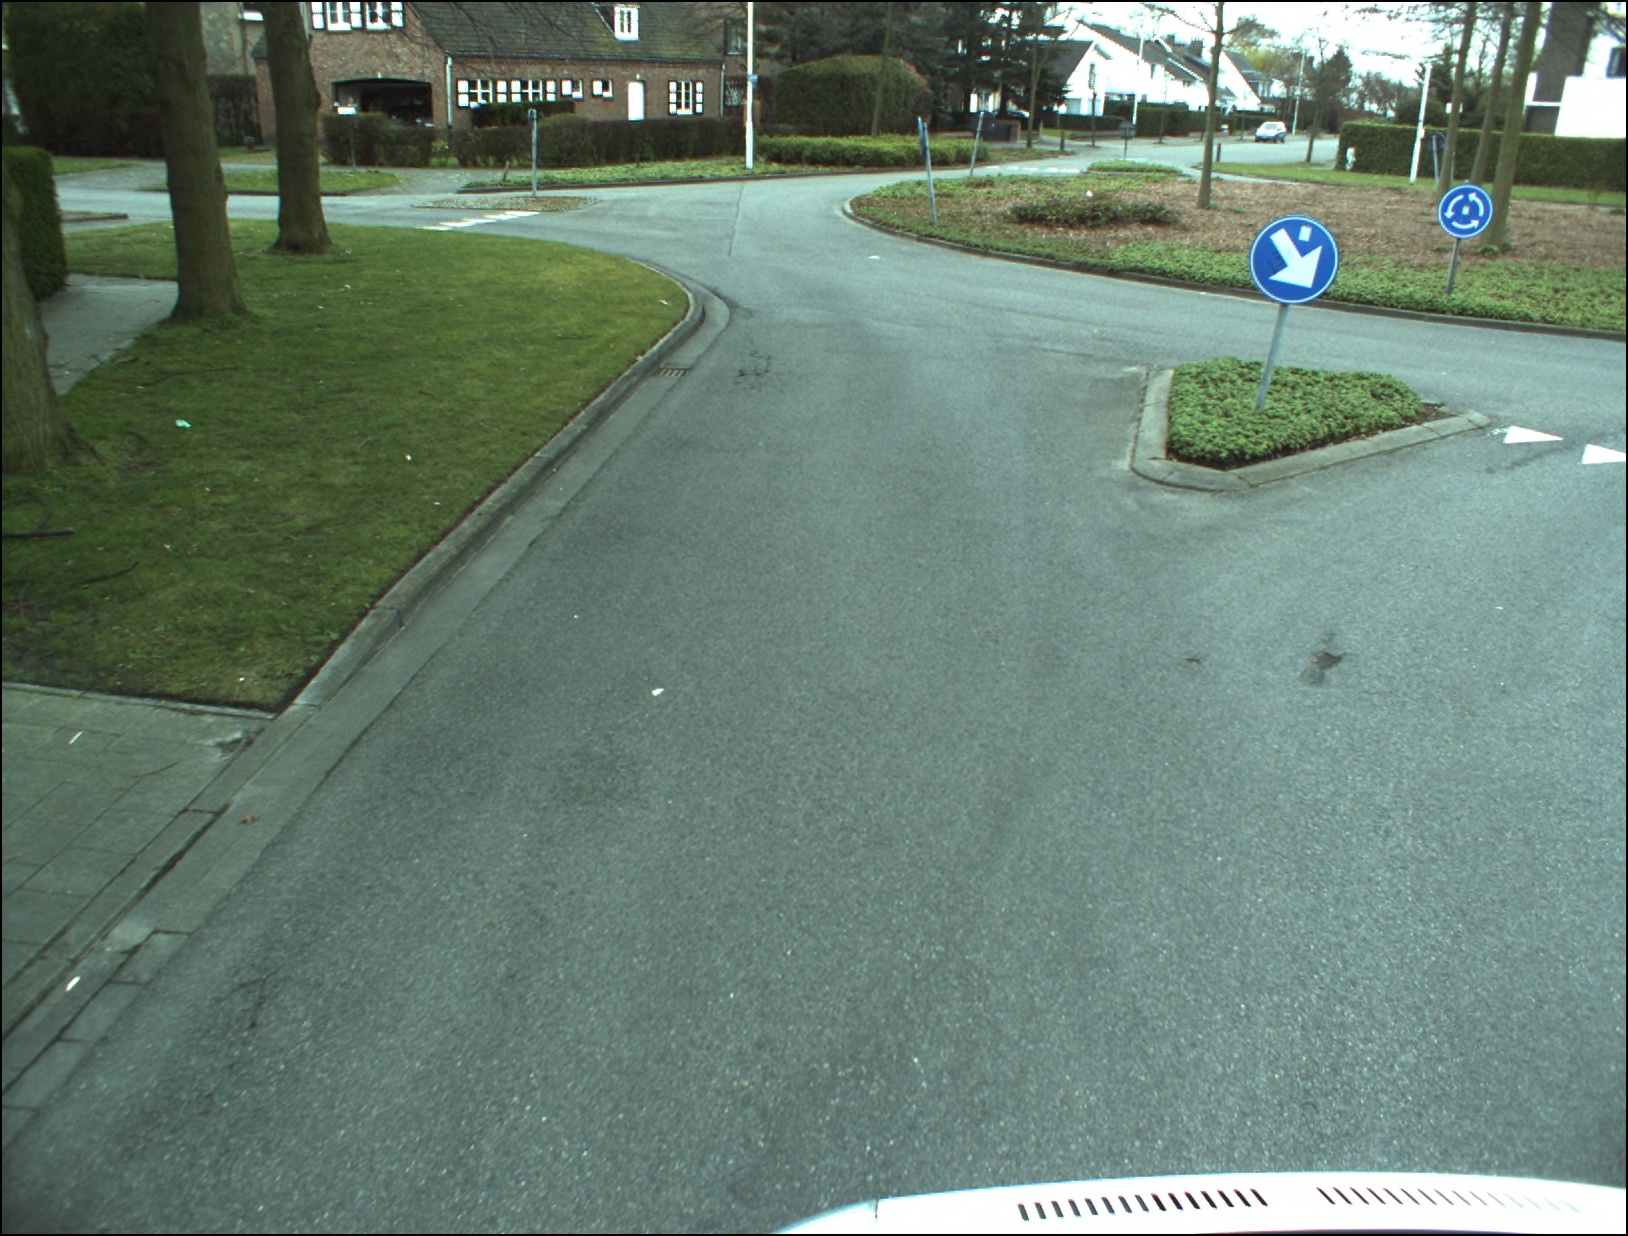passright: (1252, 217, 1337, 303)
roundabout: (1437, 184, 1493, 238)
